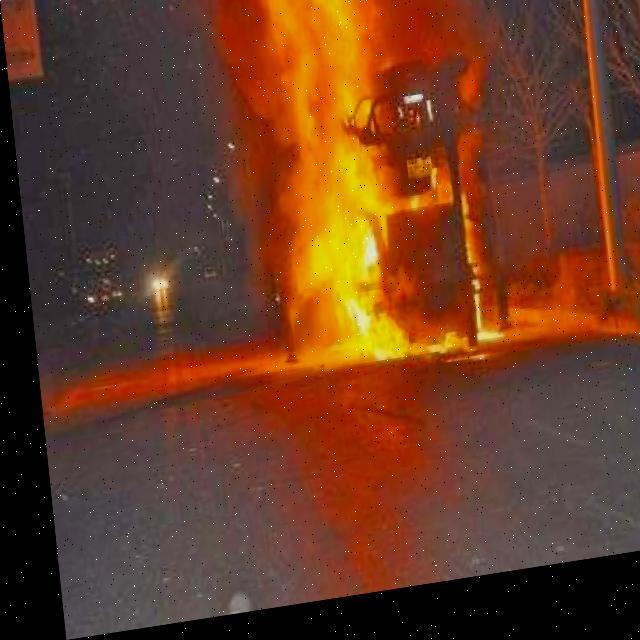Fire: (232, 0, 498, 394)
